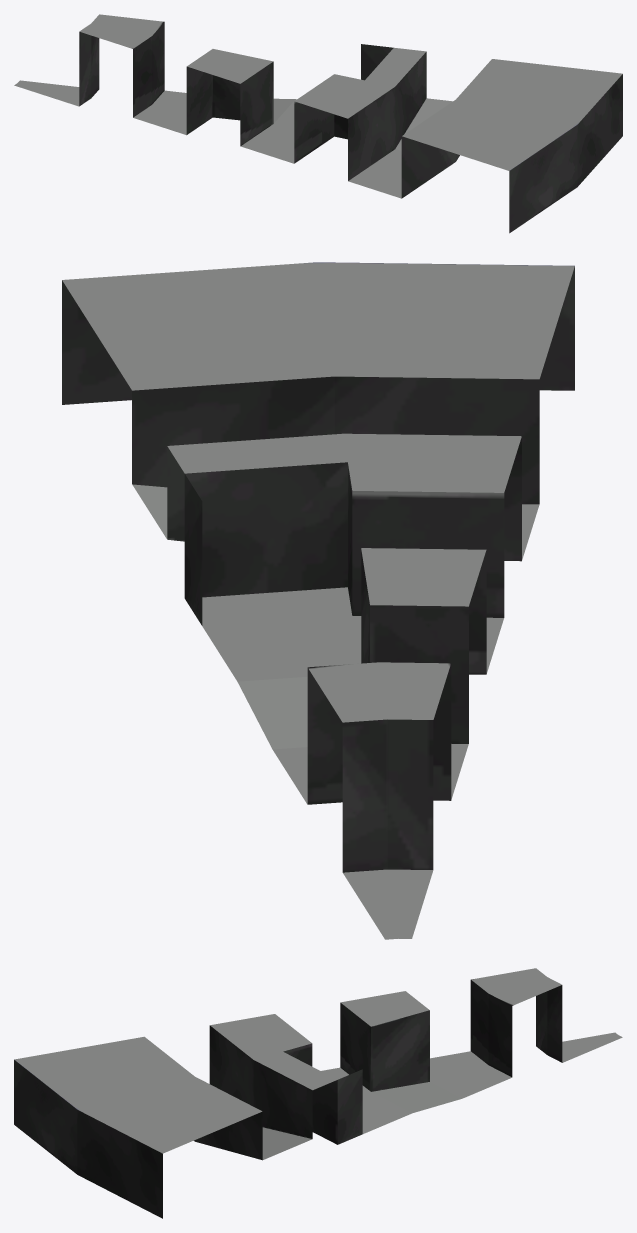
Rendered from bottom_07.obj.
3 views of the same model, one above another, from view 1: azimuth 30°, elevation 25°; view 2: azimuth 150°, elevation 25°; view 3: azimuth 270°, elevation 25° (orthographic). The views are drawn at different scales.
Parts seen in each view (by area): view 1: Cylinder.009; view 2: Cylinder.009; view 3: Cylinder.009.
Part boxes in pixels (box(x1,y1,x2,y2)): Cylinder.009: box(14, 14, 622, 233); Cylinder.009: box(62, 262, 574, 939); Cylinder.009: box(14, 968, 622, 1218).
Size of the model in its own units: 26.25 by 4.8 by 33.89.
